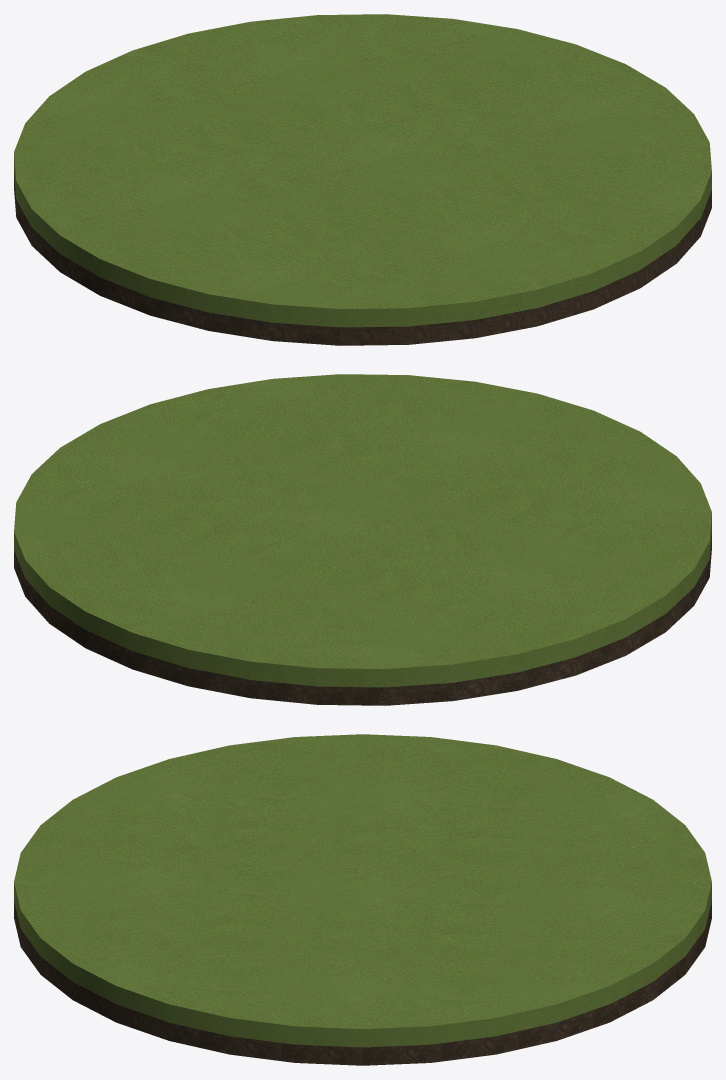
File: ground_round.fbx
The picture shows the model from 3 angles, top to bottom: view 1: azimuth 30°, elevation 25°; view 2: azimuth 150°, elevation 25°; view 3: azimuth 270°, elevation 25°; orthographic projection.
Parts seen in each view (by area): view 1: Circle; view 2: Circle; view 3: Circle.
Part boxes in pixels (<box>): Circle: <box>14,14,711,345</box>; Circle: <box>14,374,711,705</box>; Circle: <box>14,734,711,1065</box>.
Bounding box in the file's own units: 51.85 × 3 × 51.85.
Materials: 2 (2 with a texture image).
